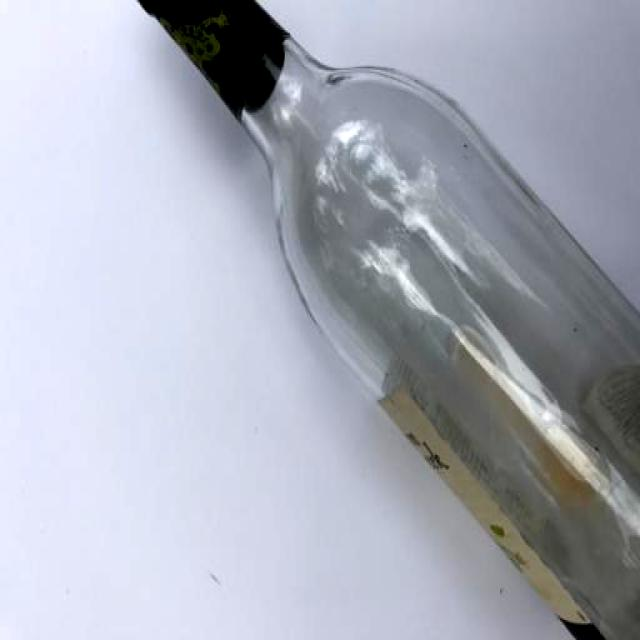Glass: (128, 0, 640, 640)
